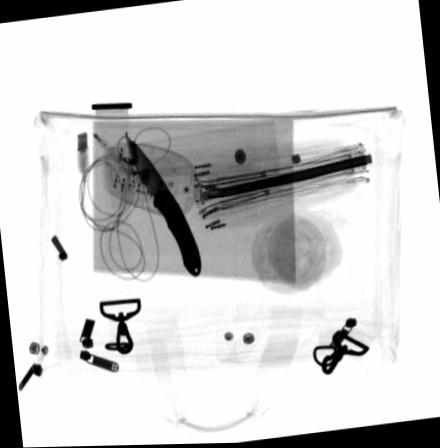Knife: (123, 132, 201, 278)
